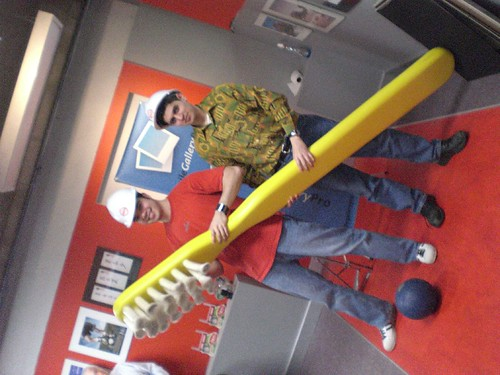person hardhat: (107, 167, 444, 351), (141, 83, 468, 230)
